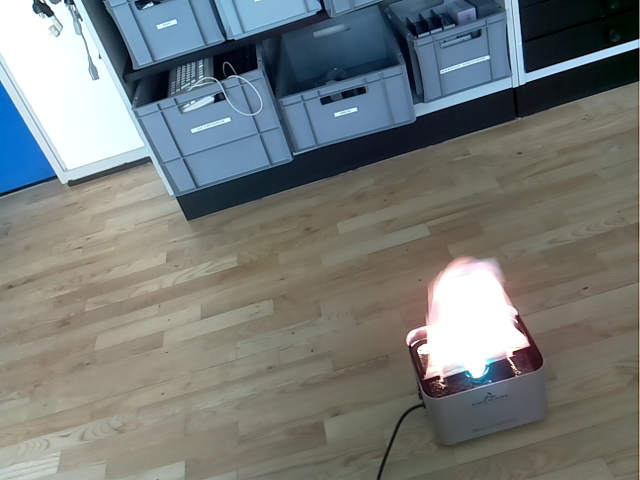fire: (420, 256, 530, 381)
